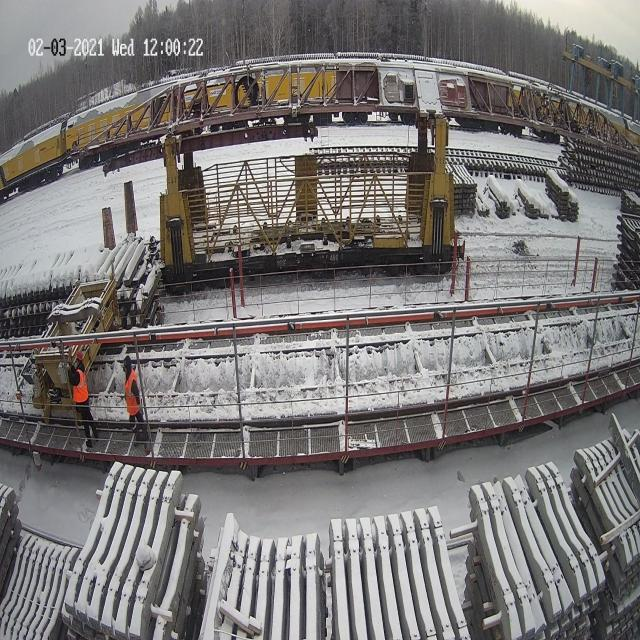Person: (67, 346, 99, 452), (122, 355, 150, 454)
